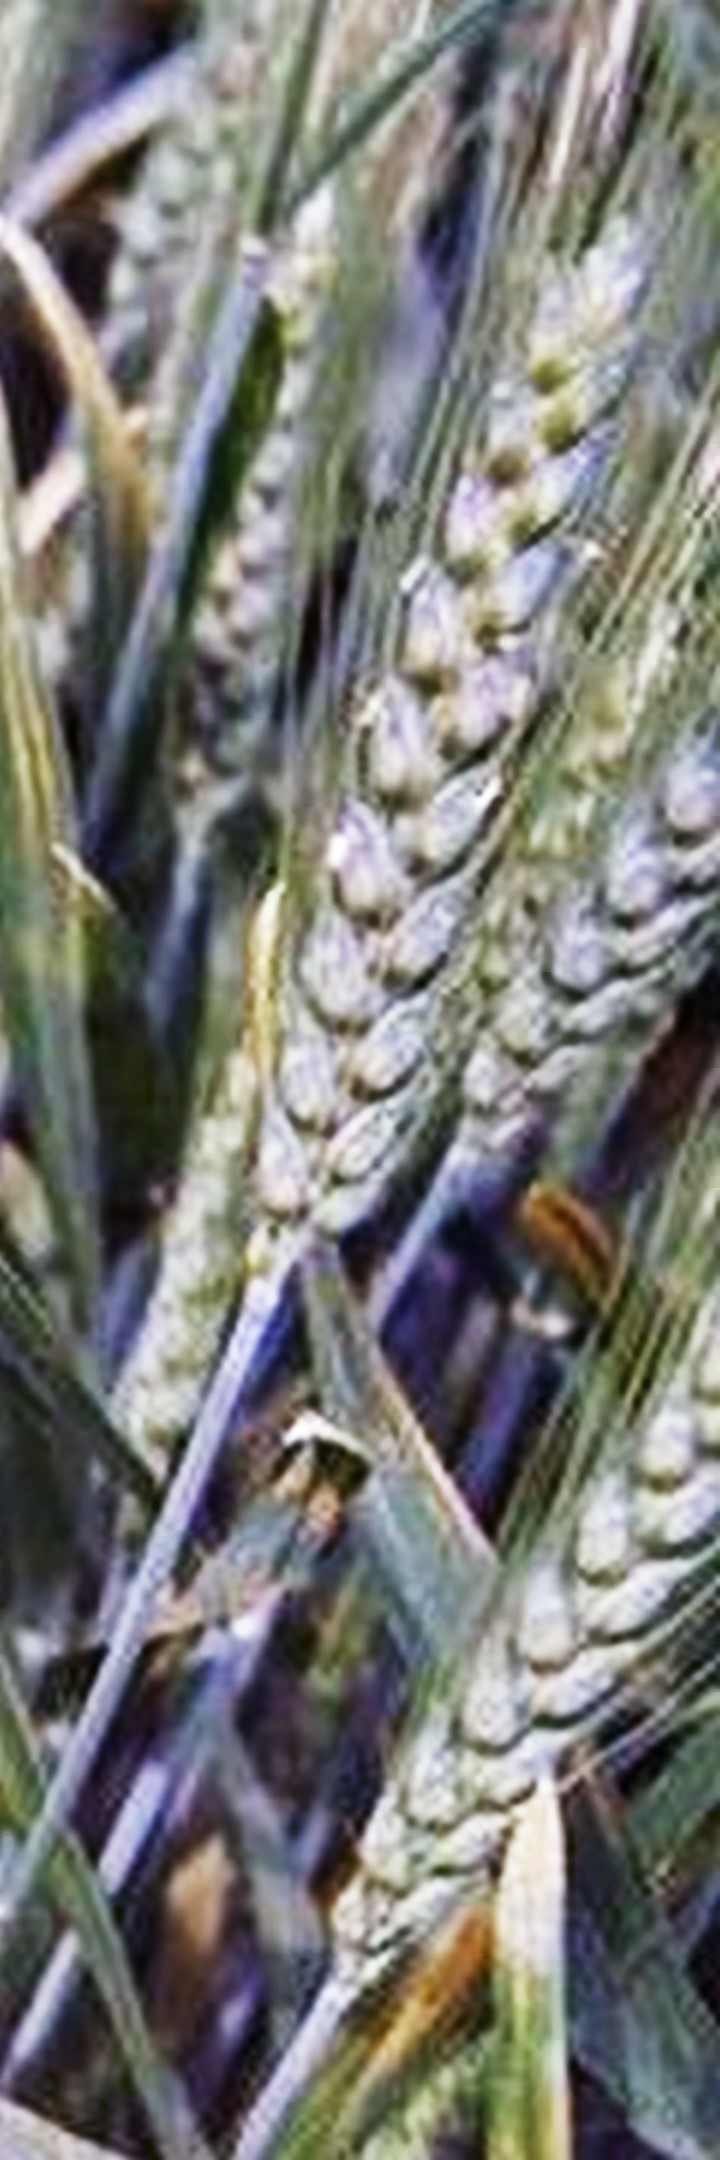Healthy Wheat: (215, 259, 659, 1276)
